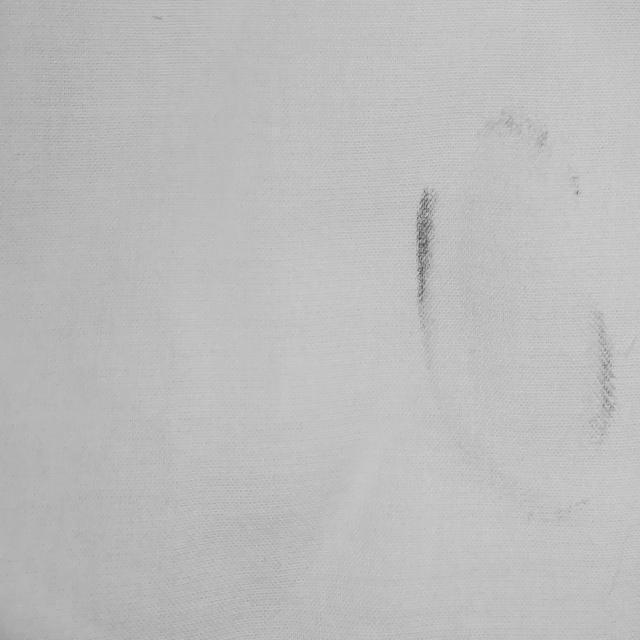Hole: (372, 64, 640, 524)
